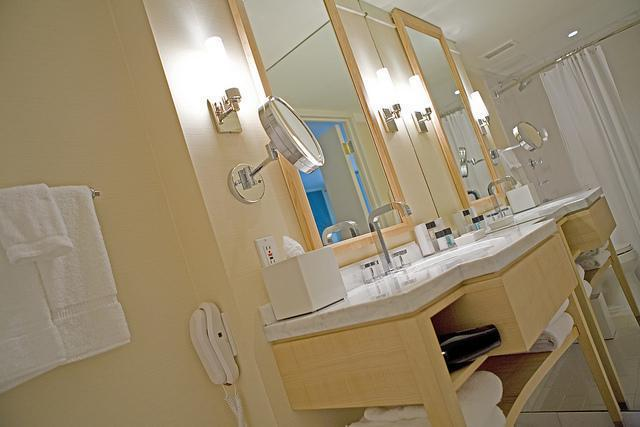Ducha: (492, 12, 639, 264)
Lavamanos: (356, 193, 499, 286), (484, 170, 581, 223)
Sanitario: (556, 206, 639, 317)
